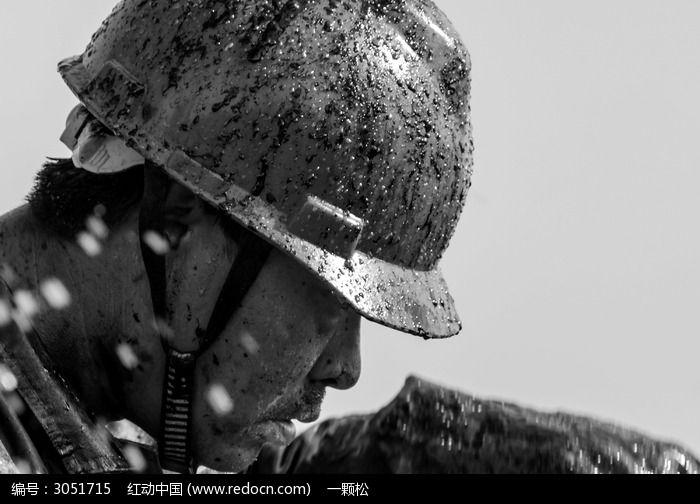helmet: (58, 3, 505, 340)
